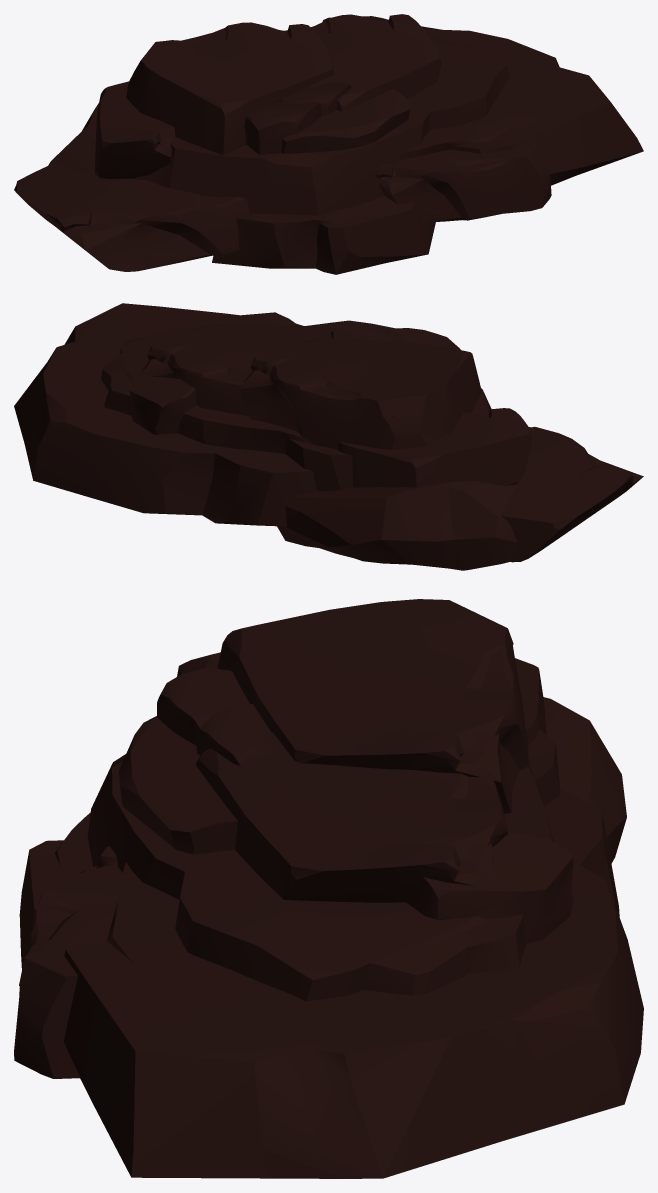
File: SM_Rock_Collection_01.fbx
3 renders of one model, top to bottom at view 1: azimuth 30°, elevation 25°; view 2: azimuth 150°, elevation 25°; view 3: azimuth 270°, elevation 25°, orthographic. The views are drawn at different scales.
Parts seen in each view (by area): view 1: SM_Rock_Composition_01; view 2: SM_Rock_Composition_01; view 3: SM_Rock_Composition_01.
Boxes of the visible parts, x1,y1,x2,y2 form: SM_Rock_Composition_01: (14,14,643,274); SM_Rock_Composition_01: (14,303,643,570); SM_Rock_Composition_01: (14,599,643,1178).
Bounding box in the file's own units: 841 × 211 × 466.
